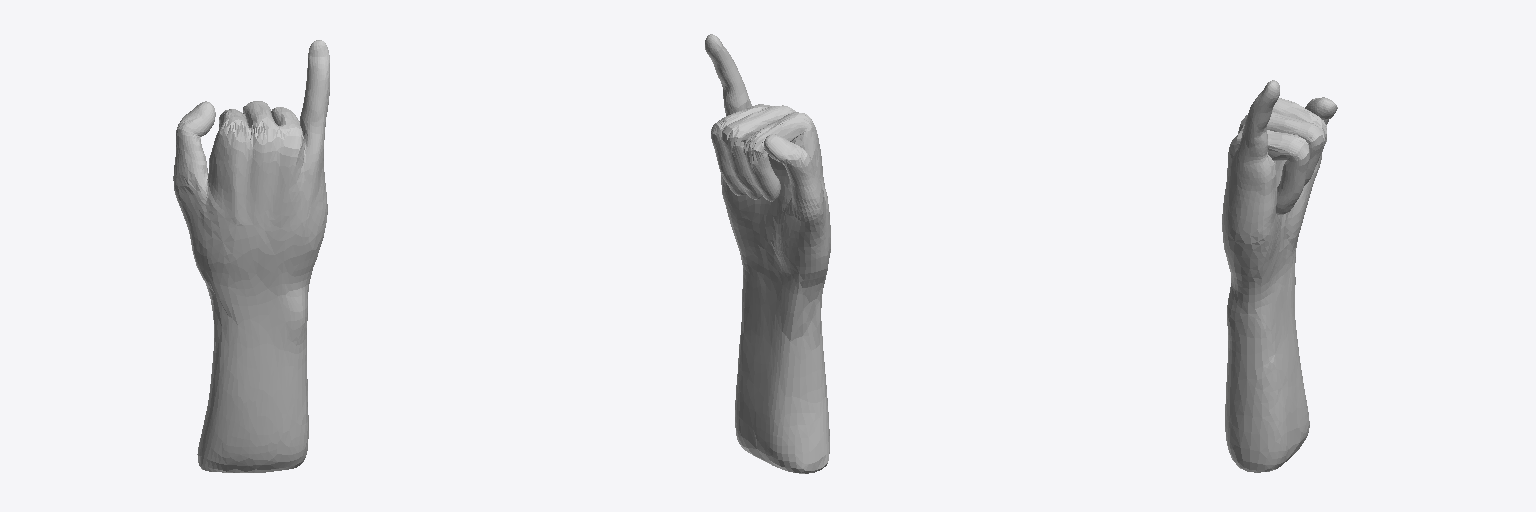
Rendered from maini.obj.
3 views of the same model, side by side, from view 1: azimuth 30°, elevation 25°; view 2: azimuth 150°, elevation 25°; view 3: azimuth 270°, elevation 25° (orthographic).
Parts seen in each view (by area): view 1: ZBrush_defualt_group; view 2: ZBrush_defualt_group; view 3: ZBrush_defualt_group.
Boxes of the visible parts, x1,y1,x2,y2 form: ZBrush_defualt_group: [173, 40, 329, 472]; ZBrush_defualt_group: [705, 34, 830, 473]; ZBrush_defualt_group: [1222, 80, 1337, 472].
Bounding box in the file's own units: 2.95 × 8.61 × 2.21.